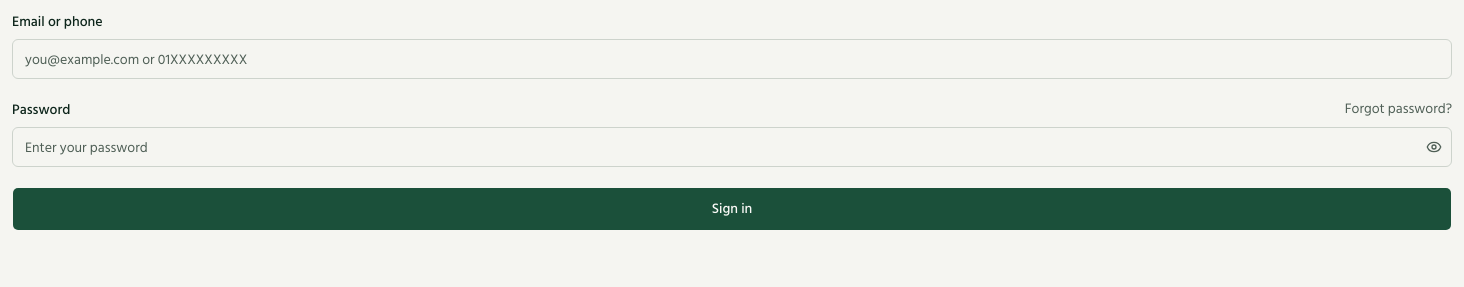
it: LoginForm › shows the message for INVALID_CREDENTIALS
The image size is (1464, 287).
Type "01712345678" into the field labelled "Email or phone". click: (732, 59)
box: [12,39,1452,79]
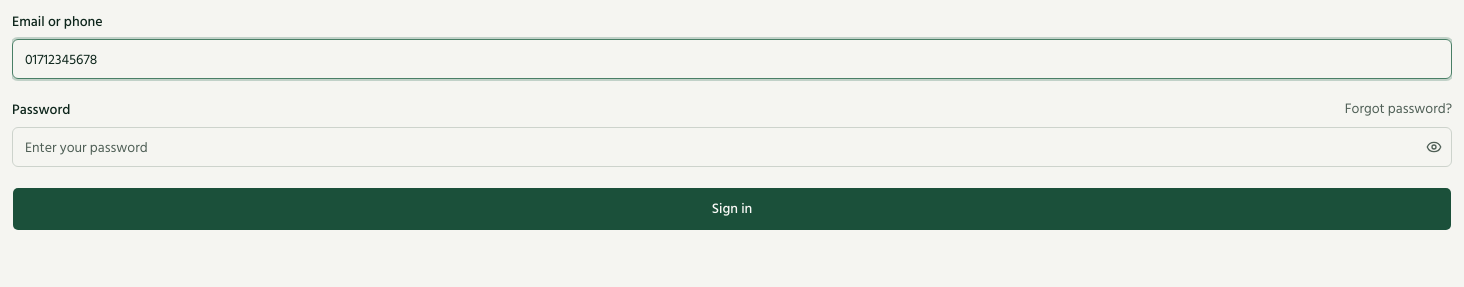
Type "secret" into the password field labelled "Password". click: (716, 147)
box: [13,127,1420,167]
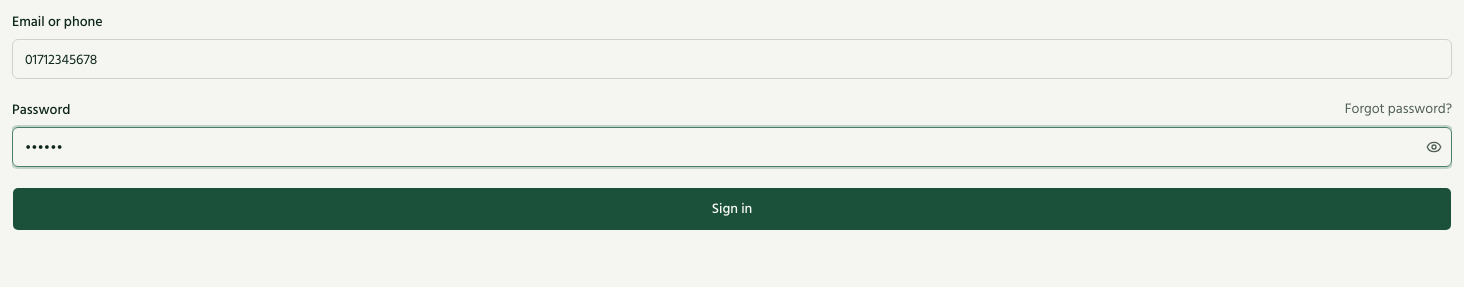
Click the button "Sign in". click: (732, 209)
box: [12,187,1452,231]
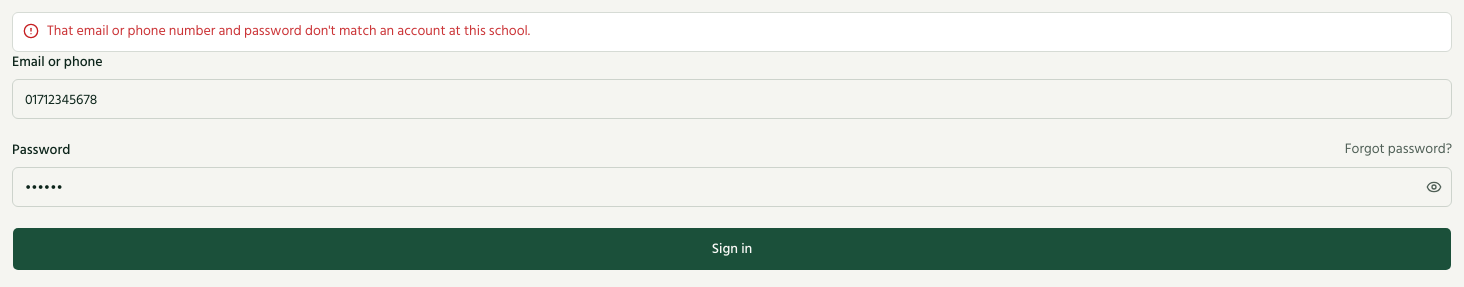
Expected: the message reads "That email or phone number and password don't match an account at this school.", [47,19,530,42]
